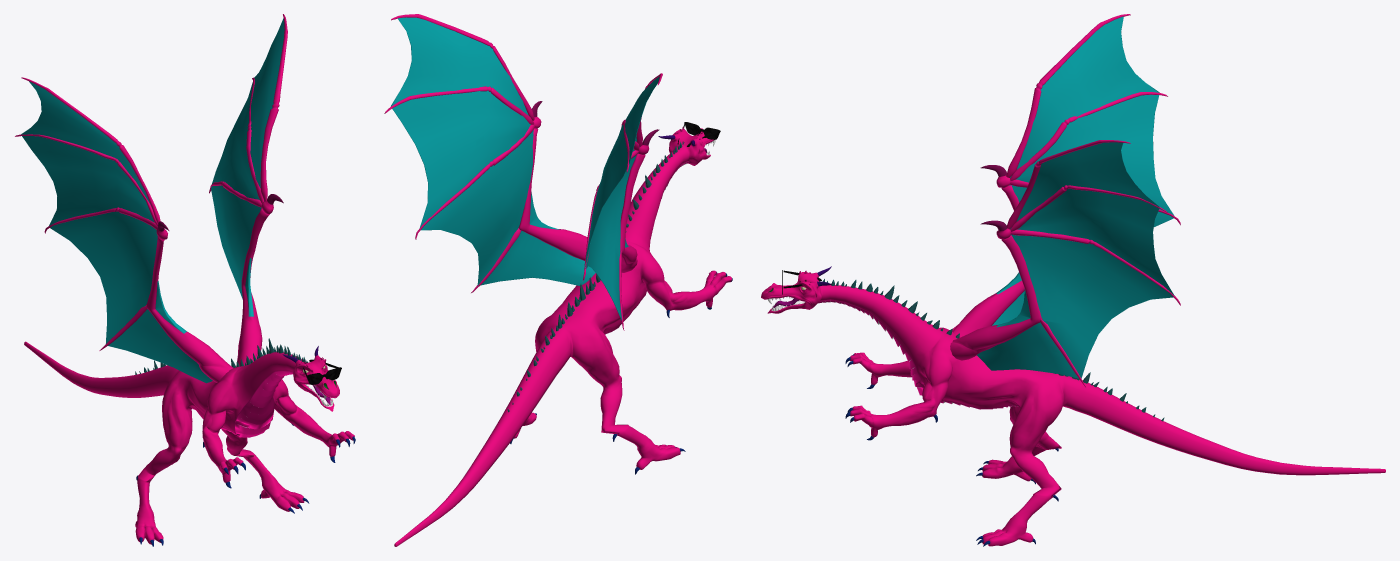
The model's file is cool_dragon#0000.fbx.
3 renders of one model, left to right at view 1: azimuth 30°, elevation 25°; view 2: azimuth 150°, elevation 25°; view 3: azimuth 270°, elevation 25°, orthographic. The views are drawn at different scales.
Parts seen in each view (by area): view 1: dragon; view 2: dragon; view 3: dragon.
Part boxes in pixels (box(x1,y1,x2,y2)): dragon: box(15, 14, 355, 546); dragon: box(384, 14, 732, 546); dragon: box(761, 14, 1385, 546).
Bounding box in the file's own units: 33.99 × 53.81 × 69.75.
